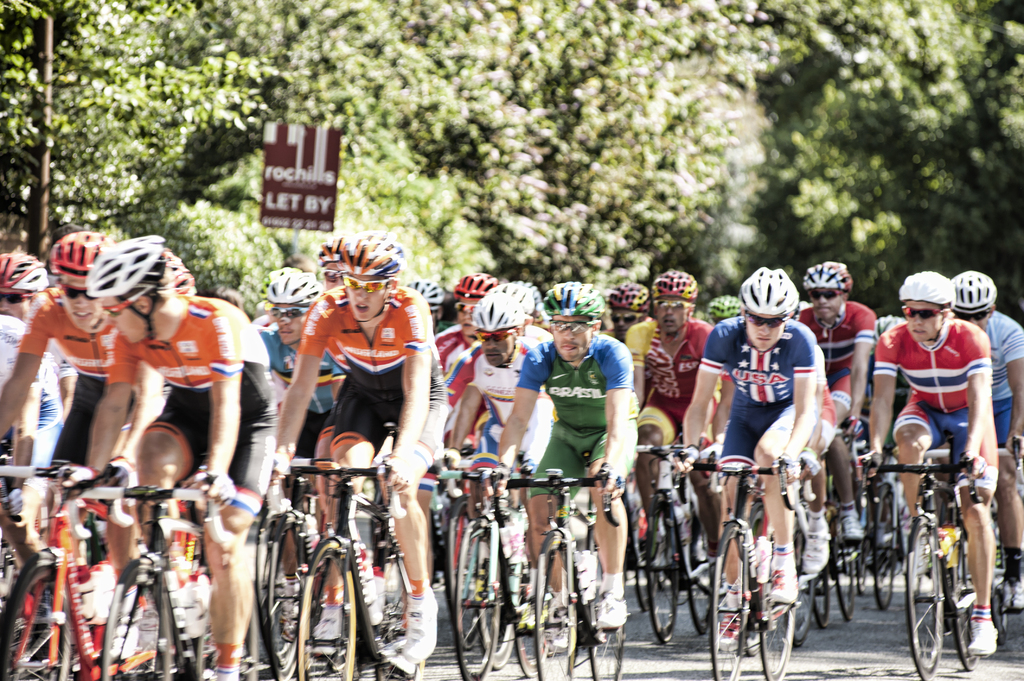Tree: (0, 0, 1023, 329)
